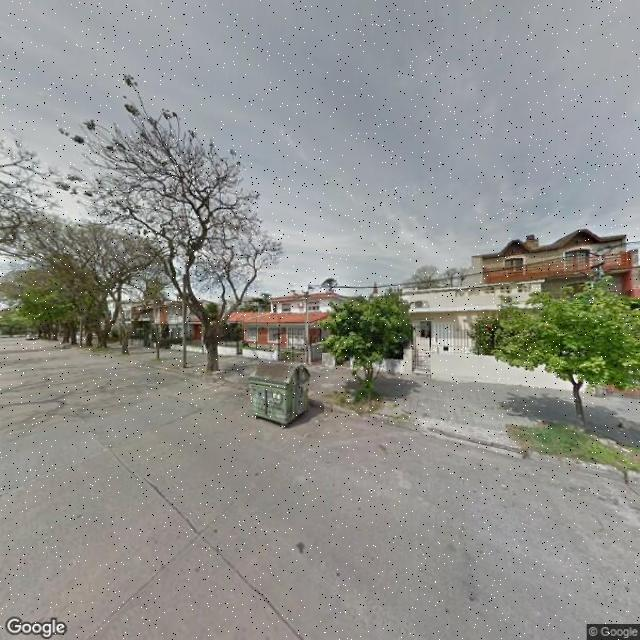garbage container: (245, 357, 322, 434)
